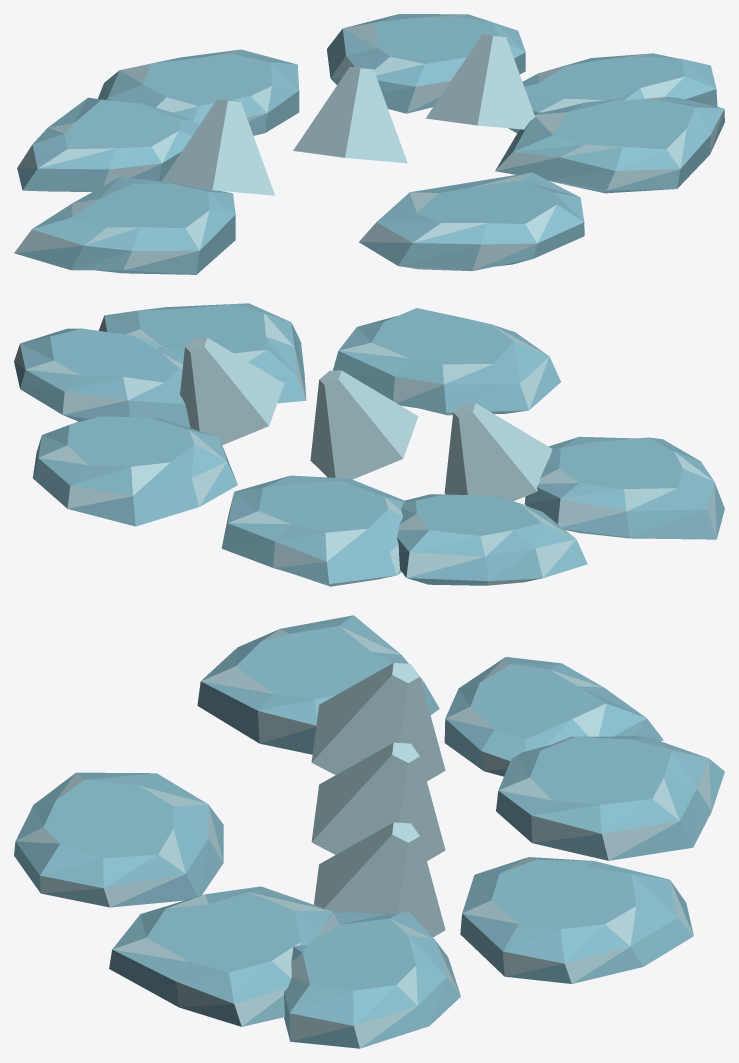
File: ICE_12_BrokenIceCluster.glb
3 renders of one model, top to bottom at view 1: azimuth 30°, elevation 25°; view 2: azimuth 150°, elevation 25°; view 3: azimuth 270°, elevation 25°, orthographic. The views are drawn at different scales.
Visible parts, largest first — view 1: ICE_12_BrokenIceCluster; view 2: ICE_12_BrokenIceCluster; view 3: ICE_12_BrokenIceCluster.
Boxes of the visible parts, bbox=[...] form: ICE_12_BrokenIceCluster: bbox=[14, 14, 724, 274]; ICE_12_BrokenIceCluster: bbox=[14, 303, 724, 586]; ICE_12_BrokenIceCluster: bbox=[14, 615, 724, 1048].
Bounding box in the file's own units: 3.15 × 0.4245 × 2.26.
